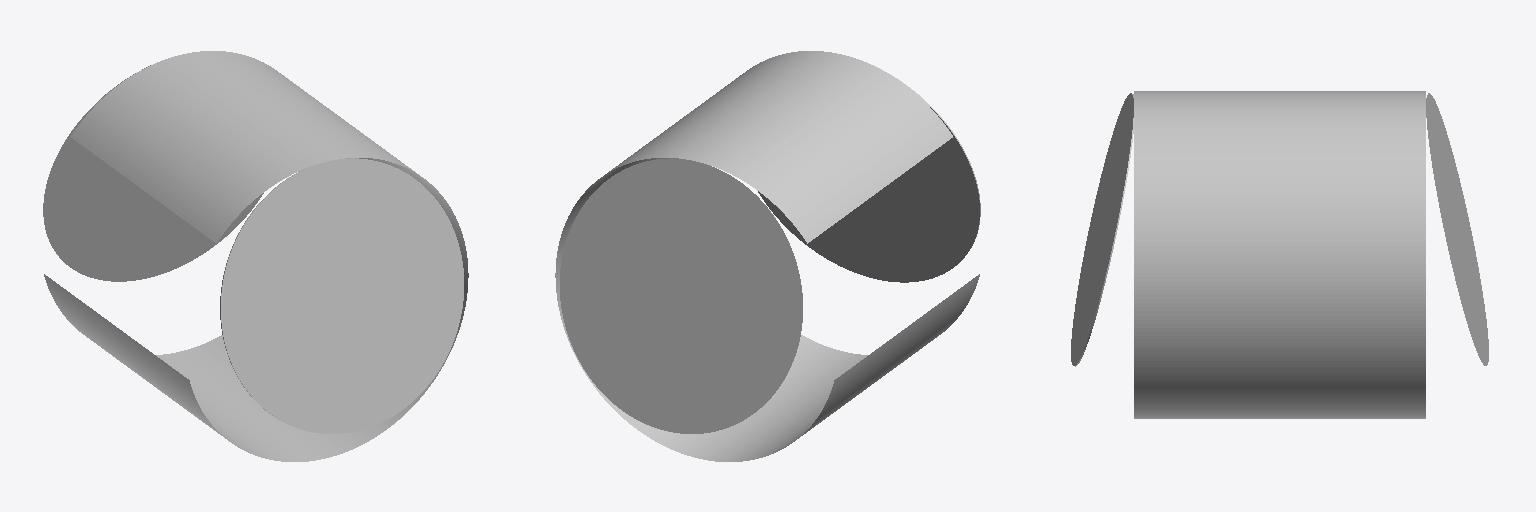
Rendered from plane bend76.obj.
The picture shows the model from 3 angles: view 1: azimuth 30°, elevation 25°; view 2: azimuth 150°, elevation 25°; view 3: azimuth 270°, elevation 25°; orthographic projection.
Parts seen in each view (by area): view 1: Circle, Plane, Circle.001; view 2: Circle.001, Plane, Circle; view 3: Plane, Circle, Circle.001.
Boxes of the visible parts, box(x1,y1,x2,y2) form: Circle: box(220, 158, 463, 433); Plane: box(44, 51, 468, 461); Circle.001: box(43, 65, 263, 281); Circle.001: box(560, 158, 802, 433); Plane: box(555, 51, 979, 461); Circle: box(758, 65, 980, 282); Plane: box(1134, 91, 1425, 418); Circle: box(1071, 93, 1133, 366); Circle.001: box(1426, 93, 1488, 365).
Size of the model in its own units: 2.21 by 2.24 by 2.86.